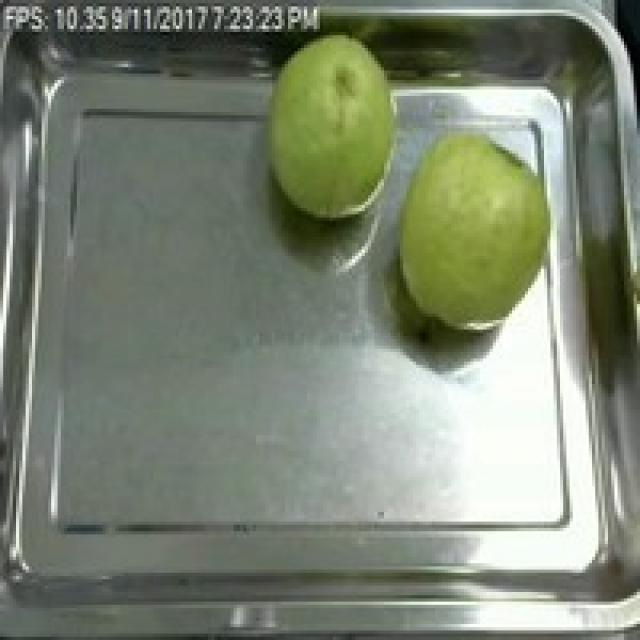Fruit: (365, 115, 582, 346), (250, 19, 419, 234)
